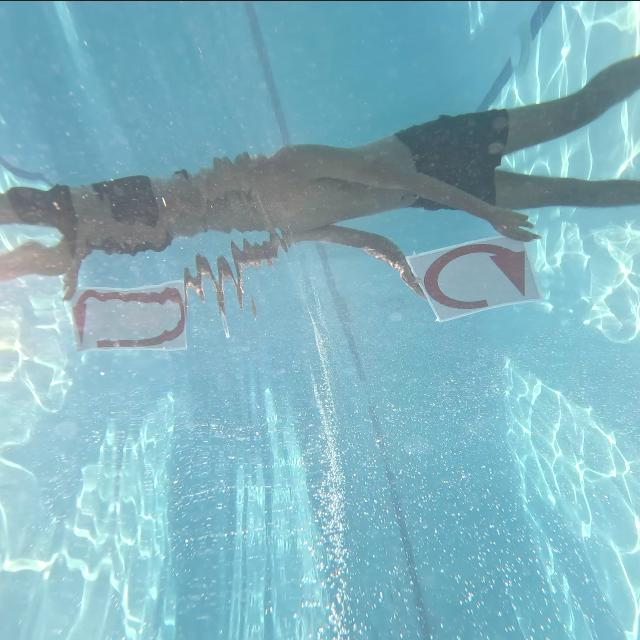red_side: (402, 223, 549, 329)
